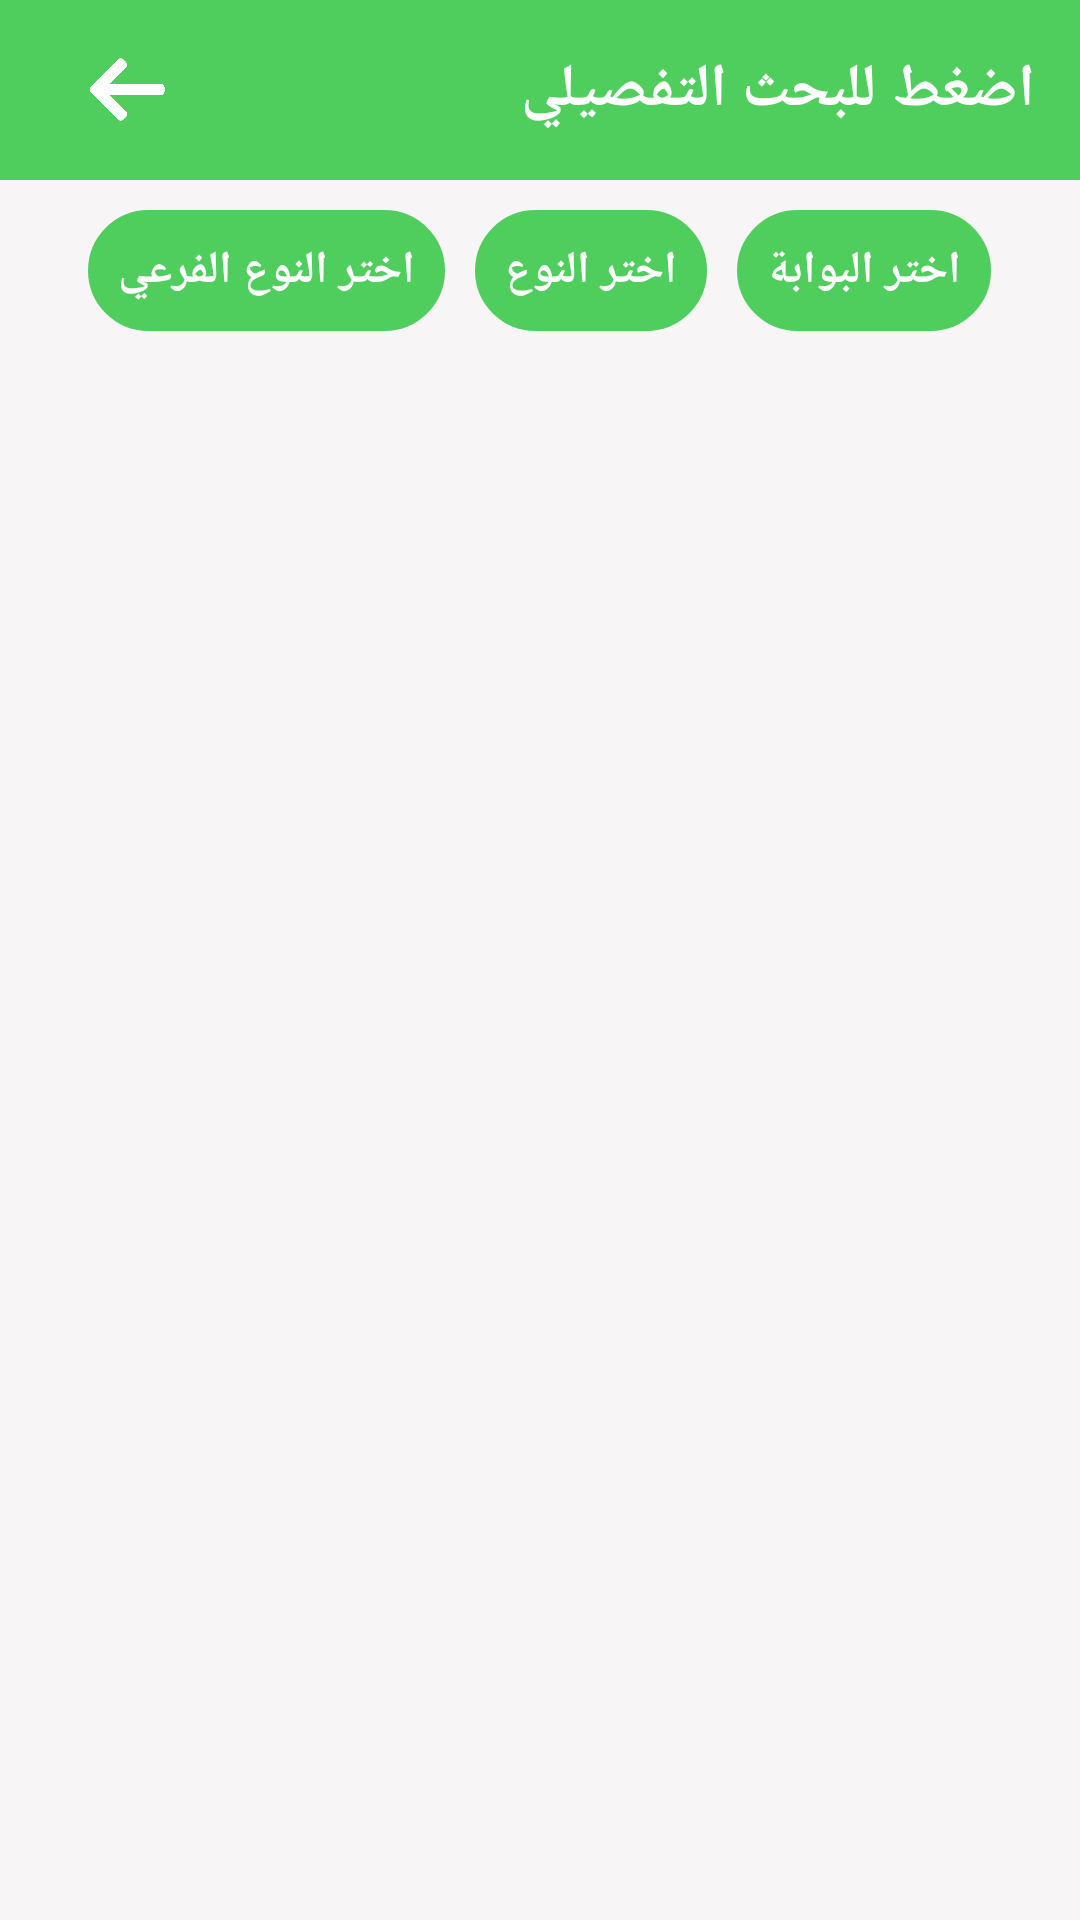

Icons on this 1080w x 1920h Android screen, each with the point to tap as (x,y):
backyyy: (127,89)
